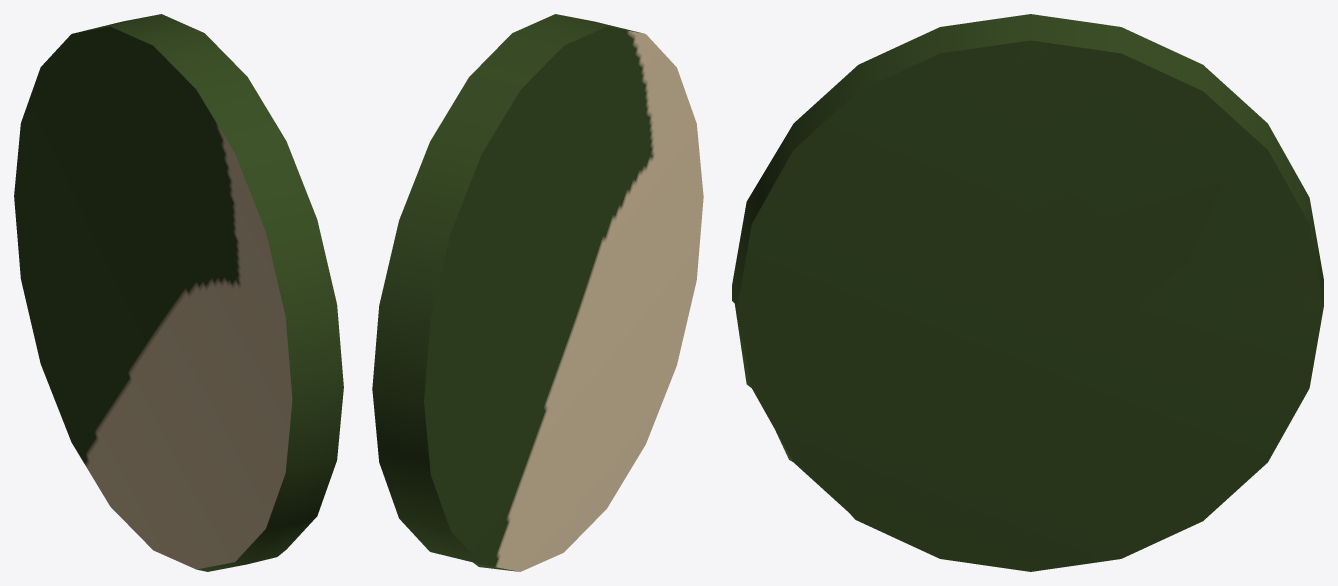
File: pickleslice06.fbx
3 views of the same model, side by side, from view 1: azimuth 30°, elevation 25°; view 2: azimuth 150°, elevation 25°; view 3: azimuth 270°, elevation 25° (orthographic). The views are drawn at different scales.
Parts seen in each view (by area): view 1: pCylinder74; view 2: pCylinder74; view 3: pCylinder74.
Boxes of the visible parts, x1,y1,x2,y2 form: pCylinder74: [14, 14, 343, 571]; pCylinder74: [372, 14, 703, 571]; pCylinder74: [732, 14, 1323, 571].
Bounding box in the file's own units: 0.00952 × 0.0769 × 0.0769.
